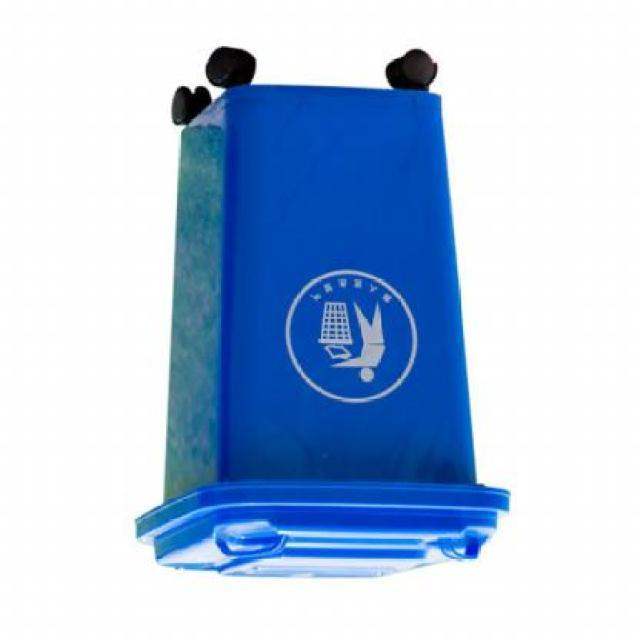garbage container: (118, 12, 527, 591)
